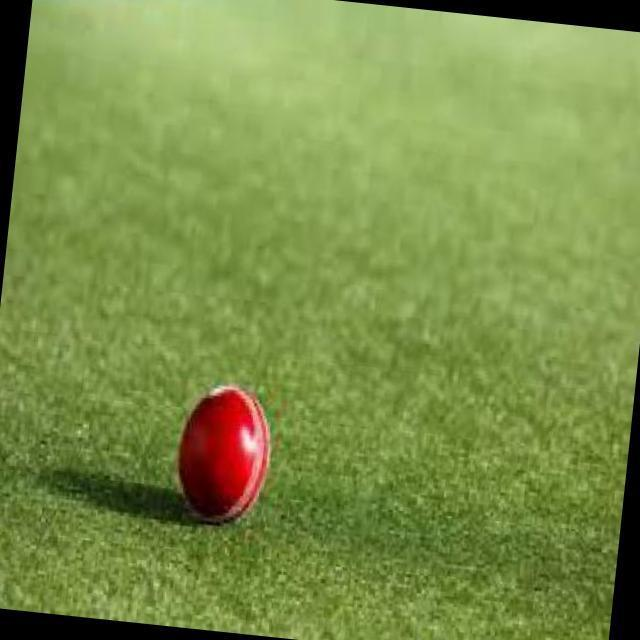-: (157, 337, 304, 558)
